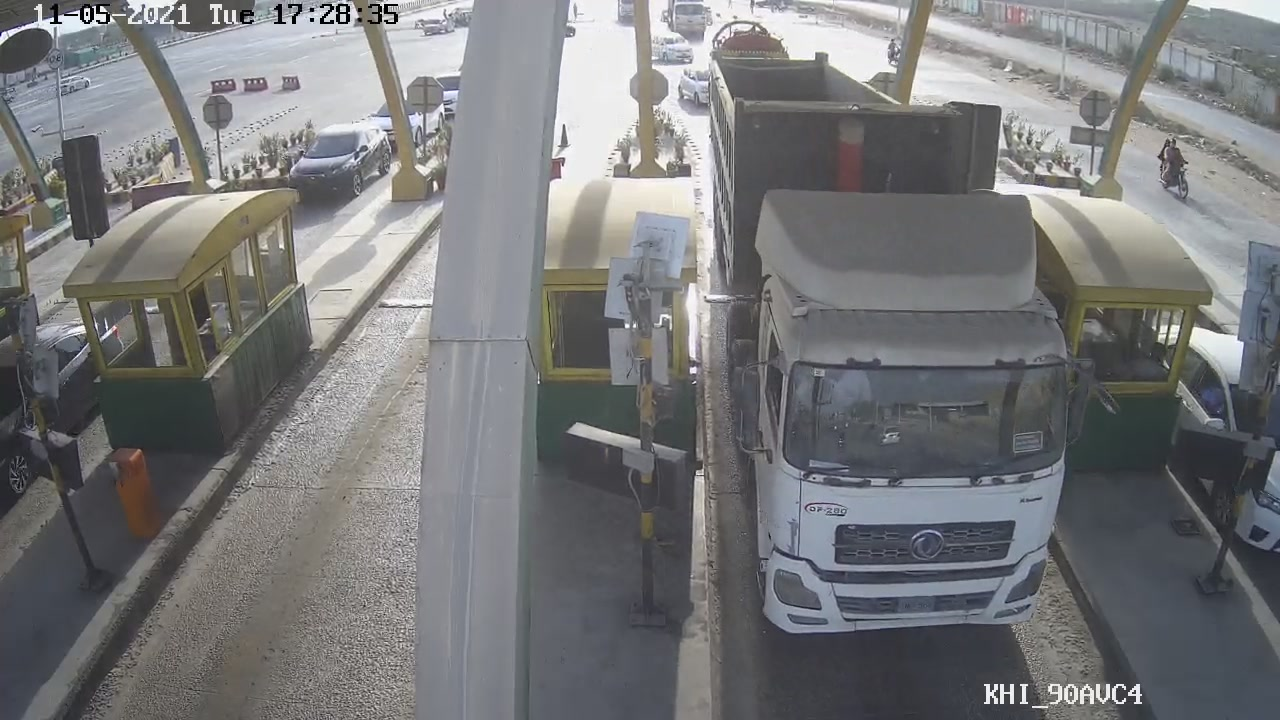F6: (692, 67, 1079, 630)
